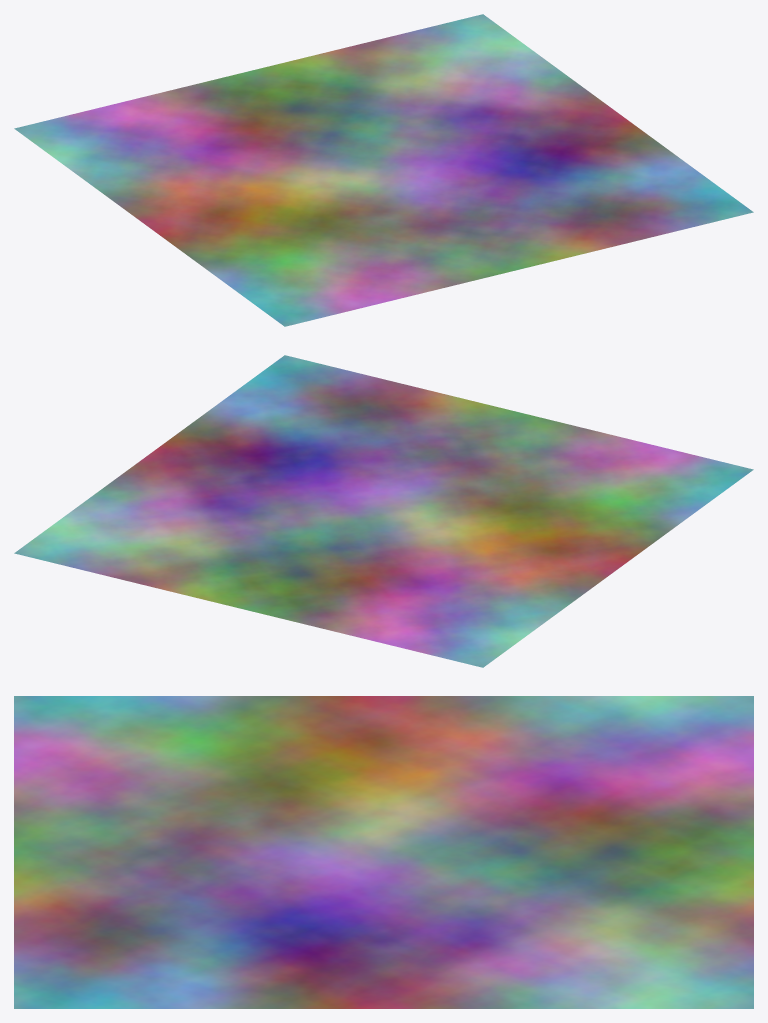
The model's file is PlaneFBXTest 1.fbx.
3 views of the same model, one above another, from view 1: azimuth 30°, elevation 25°; view 2: azimuth 150°, elevation 25°; view 3: azimuth 270°, elevation 25° (orthographic). The views are drawn at different scales.
Visible parts, largest first — view 1: Ground; view 2: Ground; view 3: Ground.
Boxes of the visible parts, left/top/right/bottom form: Ground: left=14, top=14, right=753, bottom=326; Ground: left=14, top=355, right=753, bottom=667; Ground: left=14, top=696, right=753, bottom=1008.
Bounding box in the file's own units: 7000 × 1.55e-12 × 7000.
